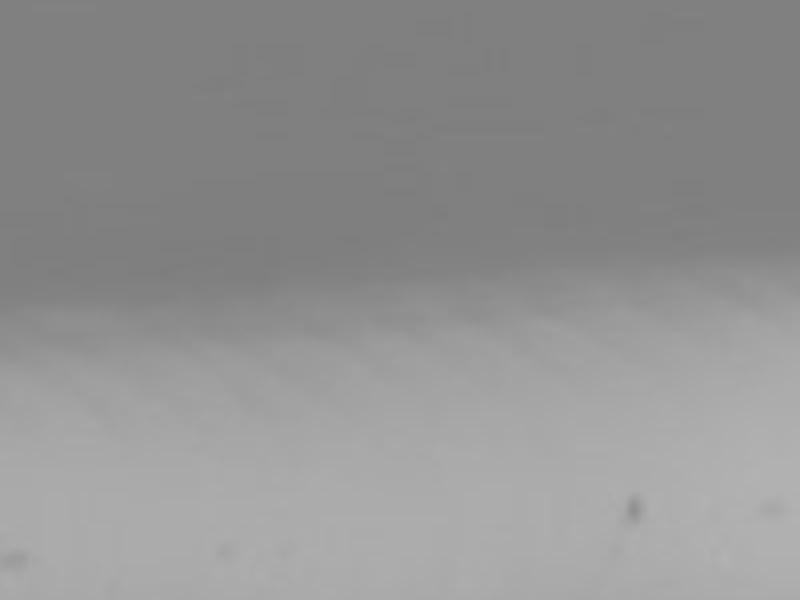defect: (625, 489, 647, 523), (1, 549, 30, 571), (213, 535, 234, 560)
